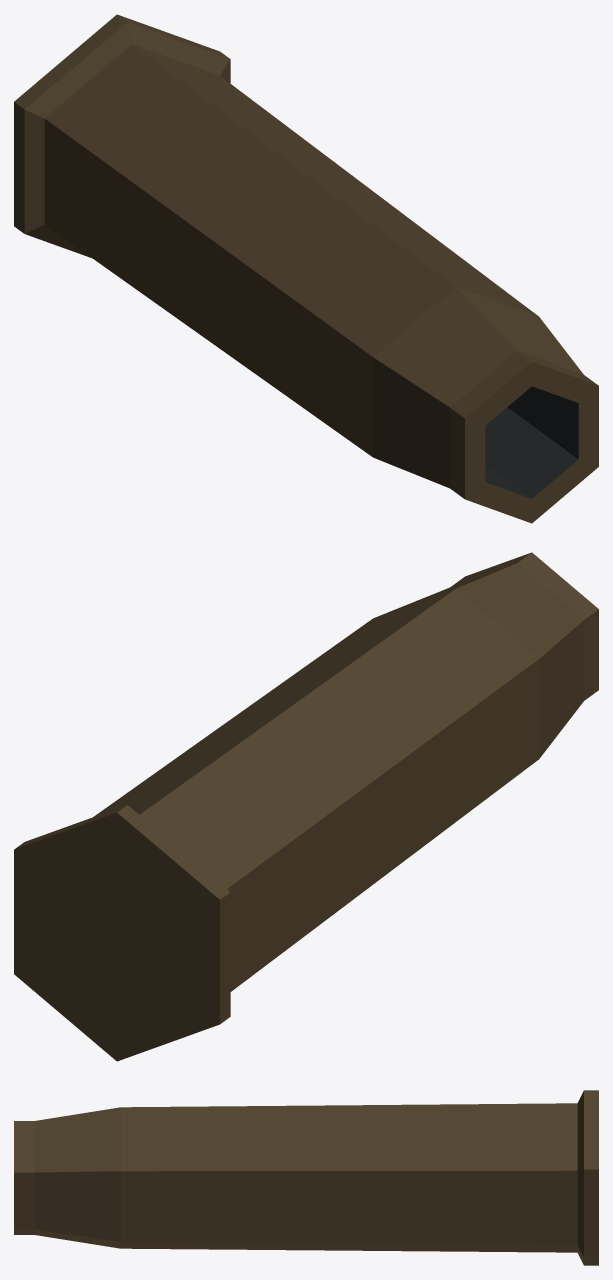
File: SM_Prop_Shell_01.glb
3 renders of one model, top to bottom at view 1: azimuth 30°, elevation 25°; view 2: azimuth 150°, elevation 25°; view 3: azimuth 270°, elevation 25°, orthographic. The views are drawn at different scales.
Parts seen in each view (by area): view 1: SM_Prop_Shell_01; view 2: SM_Prop_Shell_01; view 3: SM_Prop_Shell_01.
Boxes of the visible parts, x1,y1,x2,y2 form: SM_Prop_Shell_01: (14, 14, 598, 523); SM_Prop_Shell_01: (14, 552, 598, 1061); SM_Prop_Shell_01: (14, 1090, 598, 1265).
Bounding box in the file's own units: 0.2224 × 0.2568 × 0.7758.
Materials: 1 (1 with a texture image).
